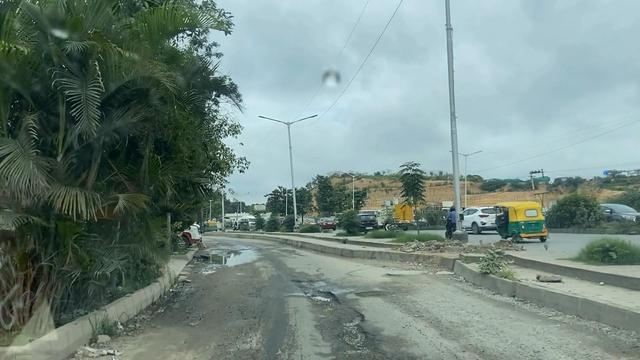RoadDamages: (339, 311, 383, 353), (292, 273, 337, 306), (384, 260, 425, 281), (352, 279, 382, 300)
